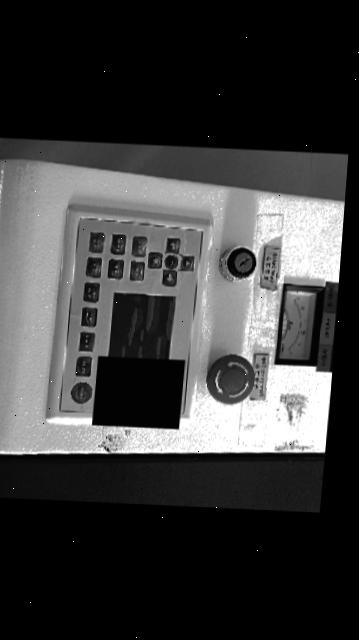Amp_Meter: (274, 283, 323, 366)
Display: (106, 291, 174, 359)
Down_button: (147, 252, 162, 268)
Emergency_Stop: (205, 354, 254, 404)
Enter_button: (130, 236, 146, 256)
Esc_button: (128, 260, 144, 281)
File_button: (85, 257, 101, 277)
Frame_button: (109, 233, 127, 254)
Left_button: (161, 269, 175, 286)
Max-Power_button: (83, 282, 98, 303)
Min-Power_button: (80, 307, 97, 327)
Origin_button: (106, 258, 122, 279)
Power_switch: (218, 246, 255, 281)
Pulse_button: (74, 357, 91, 377)
Reset_button: (70, 382, 91, 403)
Right_button: (164, 237, 179, 253)
Speed_button: (77, 332, 93, 352)
Start-Pause_button: (87, 231, 105, 253)
Up_button: (178, 255, 193, 271)
Z_U_button: (163, 254, 177, 268)
